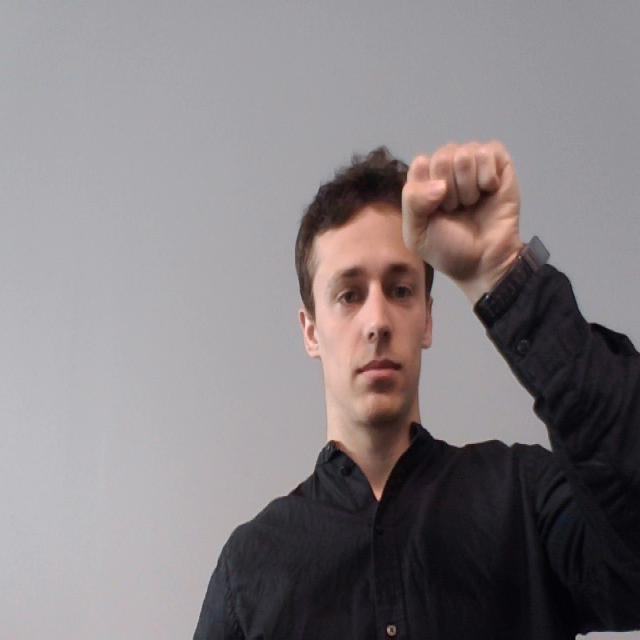stop: (388, 146, 528, 283)
